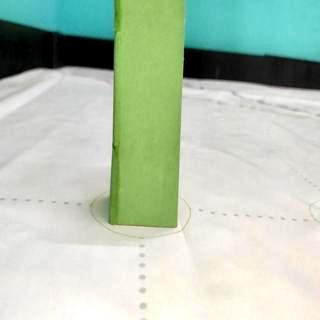greenbox: (112, 2, 186, 228)
